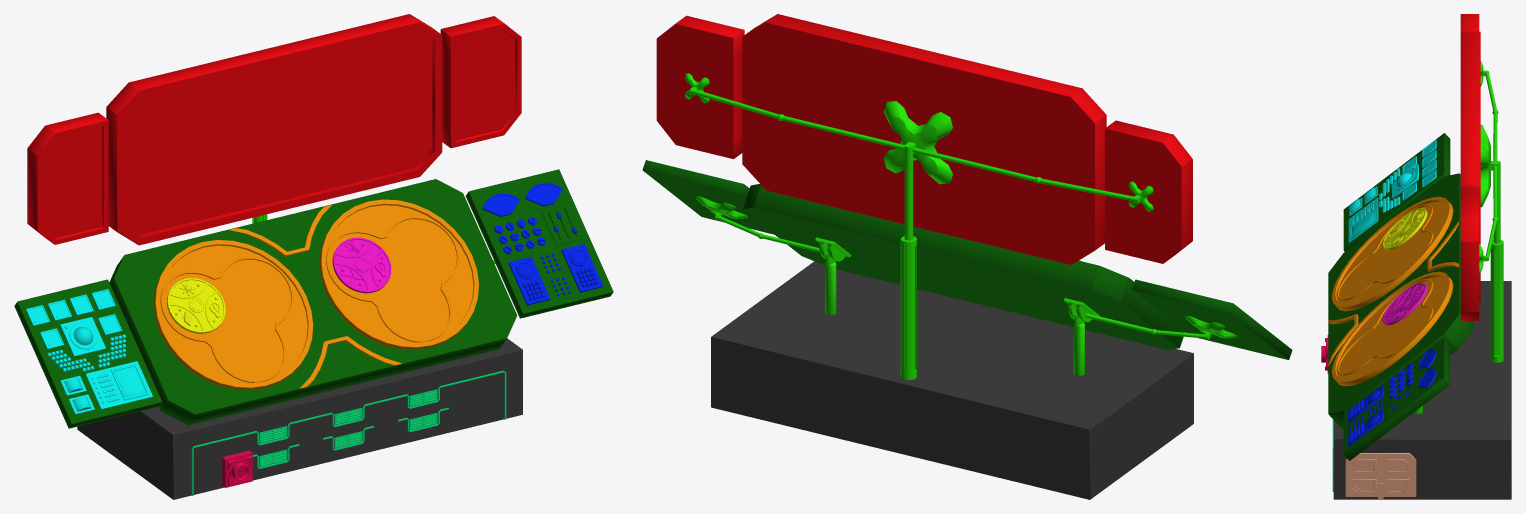
Rendered from dial control panel +materials.fbx.
3 renders of one model, left to right at view 1: azimuth 30°, elevation 25°; view 2: azimuth 150°, elevation 25°; view 3: azimuth 270°, elevation 25°, orthographic. The views are drawn at different scales.
Parts seen in each view (by area): view 1: screens, panelTop, circleBackgr, base, leftPanel, rightPanel, ventsOutlined, dial2.1, dial1.1, outlet; view 2: screens, base, panelTop, holders; view 3: base, panelTop, circleBackgr, screens, holders, ventDoor, leftPanel, rightPanel, dial2.1, dial1.1.
Part boxes in pixels (bbox=[...]): screens: bbox=[27, 14, 521, 245]; panelTop: bbox=[14, 169, 613, 428]; circleBackgr: bbox=[153, 199, 478, 390]; base: bbox=[77, 338, 522, 499]; leftPanel: bbox=[26, 289, 152, 414]; rightPanel: bbox=[482, 183, 602, 305]; ventsOutlined: bbox=[191, 370, 506, 495]; dial2.1: bbox=[332, 237, 391, 293]; dial1.1: bbox=[166, 278, 225, 333]; outlet: bbox=[222, 450, 252, 487]; screens: bbox=[656, 14, 1192, 264]; base: bbox=[711, 261, 1193, 499]; panelTop: bbox=[642, 160, 1292, 359]; holders: bbox=[684, 73, 1237, 380]; base: bbox=[1333, 281, 1511, 499]; panelTop: bbox=[1328, 133, 1473, 460]; circleBackgr: bbox=[1328, 196, 1458, 386]; screens: bbox=[1460, 14, 1480, 320]; holders: bbox=[1414, 60, 1503, 413]; ventDoor: bbox=[1345, 453, 1416, 499]; leftPanel: bbox=[1348, 139, 1436, 242]; rightPanel: bbox=[1348, 349, 1436, 446]; dial2.1: bbox=[1382, 283, 1427, 325]; dial1.1: bbox=[1382, 208, 1427, 250].
Size of the model in its own units: 579 by 359 by 190.
